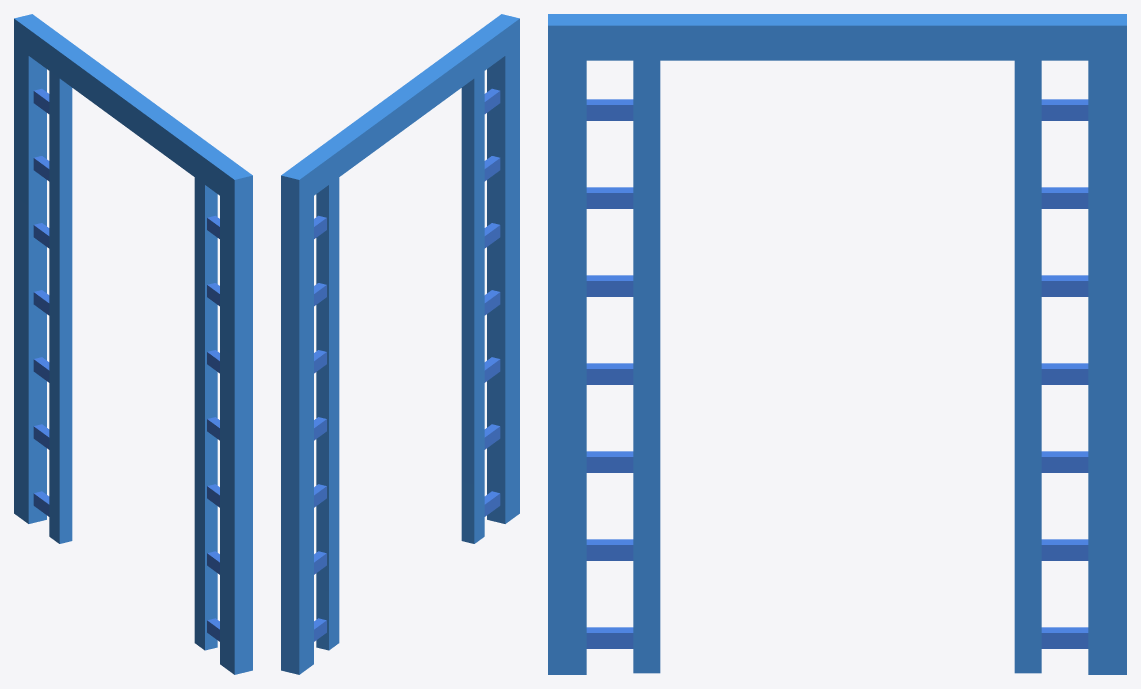
File: Fence_1_G_1.glb
3 renders of one model, left to right at view 1: azimuth 30°, elevation 25°; view 2: azimuth 150°, elevation 25°; view 3: azimuth 270°, elevation 25°, orthographic. The views are drawn at different scales.
Parts seen in each view (by area): view 1: Fence_1_G_1; view 2: Fence_1_G_1; view 3: Fence_1_G_1.
Boxes of the visible parts, x1=… form: Fence_1_G_1: x1=14, y1=14, x2=252, y2=674; Fence_1_G_1: x1=281, y1=14, x2=519, y2=674; Fence_1_G_1: x1=548, y1=14, x2=1126, y2=674.
Bounding box in the file's own units: 0.096 × 2.48 × 2.
Materials: 1 (1 with a texture image).
